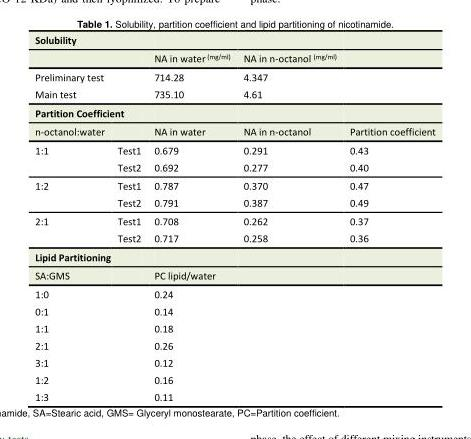table: (34, 35, 434, 402)
table column: (236, 35, 342, 402), (342, 35, 434, 402), (146, 35, 236, 402), (34, 35, 110, 402), (110, 35, 146, 402)
table projected row header: (34, 104, 434, 122), (34, 248, 434, 266), (34, 35, 434, 49)
table row: (34, 49, 434, 68), (34, 122, 434, 141), (34, 266, 434, 285), (34, 68, 434, 86), (34, 86, 434, 104), (34, 104, 434, 122), (34, 141, 434, 159), (34, 176, 434, 194), (34, 194, 434, 212), (34, 212, 434, 230), (34, 230, 434, 248), (34, 248, 434, 266), (34, 285, 434, 303), (34, 159, 434, 176), (34, 303, 434, 320), (34, 320, 434, 337), (34, 337, 434, 354), (34, 354, 434, 371), (34, 371, 434, 388), (34, 35, 434, 49), (34, 388, 434, 402)
table spanning cell: (146, 266, 342, 285), (34, 176, 110, 212), (34, 212, 110, 248), (34, 141, 110, 176), (34, 68, 146, 86), (34, 86, 146, 104)
